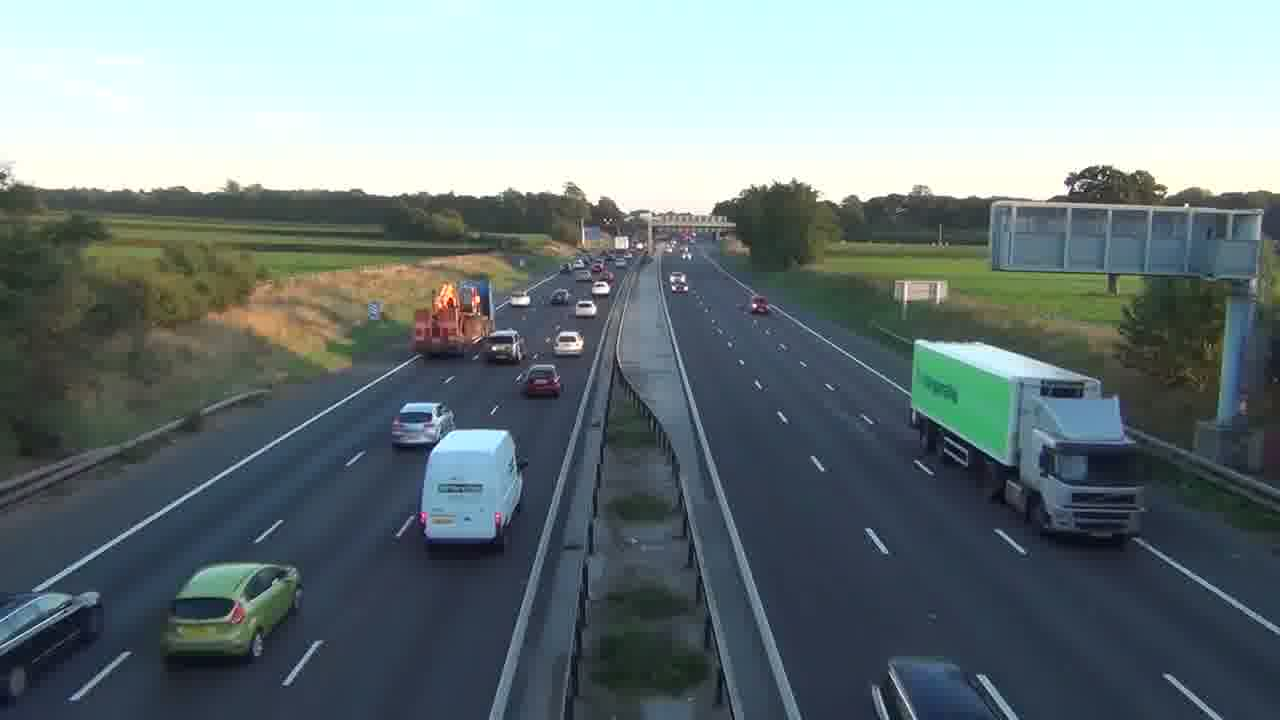car: (159, 559, 304, 662), (391, 400, 455, 448), (516, 363, 562, 398), (554, 329, 584, 355), (575, 297, 597, 318), (592, 280, 611, 295)
truck: (909, 338, 1149, 545), (419, 428, 524, 550), (412, 279, 493, 358)
